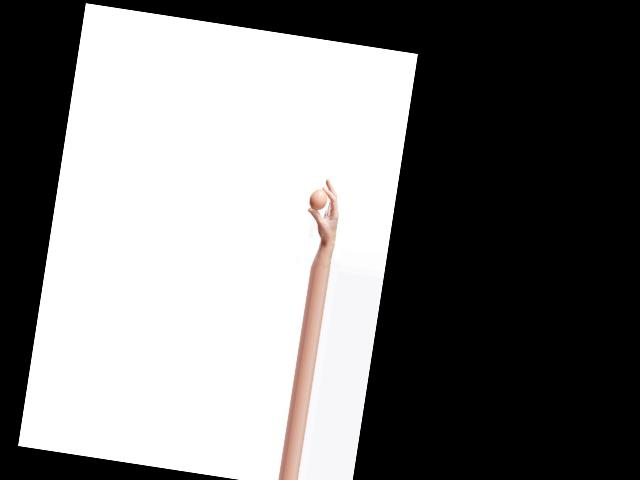egg: (308, 188, 327, 212)
